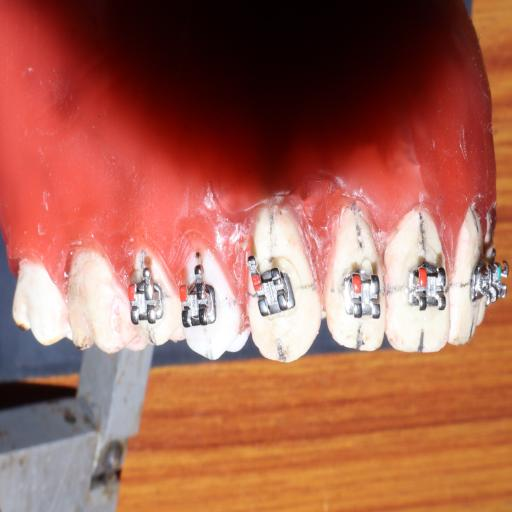incorrect_brace: (249, 260, 296, 318)
